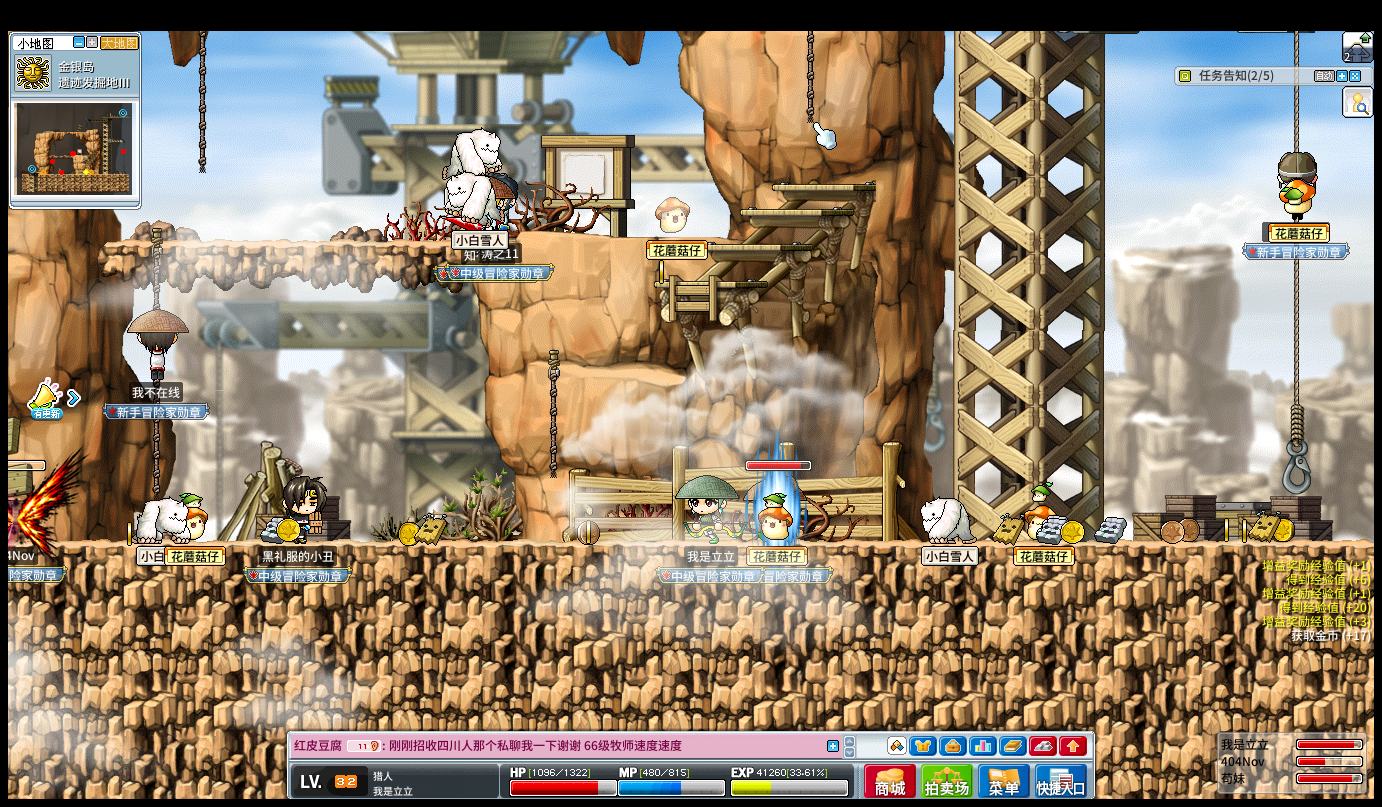floor: (106, 239, 481, 249), (576, 364, 685, 386), (736, 207, 852, 215), (698, 242, 814, 250), (603, 233, 734, 240), (650, 280, 767, 287), (770, 184, 877, 191)
rope: (546, 349, 561, 482), (1292, 256, 1302, 406), (198, 32, 207, 173), (151, 227, 162, 307), (805, 29, 814, 124), (1292, 30, 1299, 148), (152, 420, 161, 496), (1289, 400, 1304, 443)
